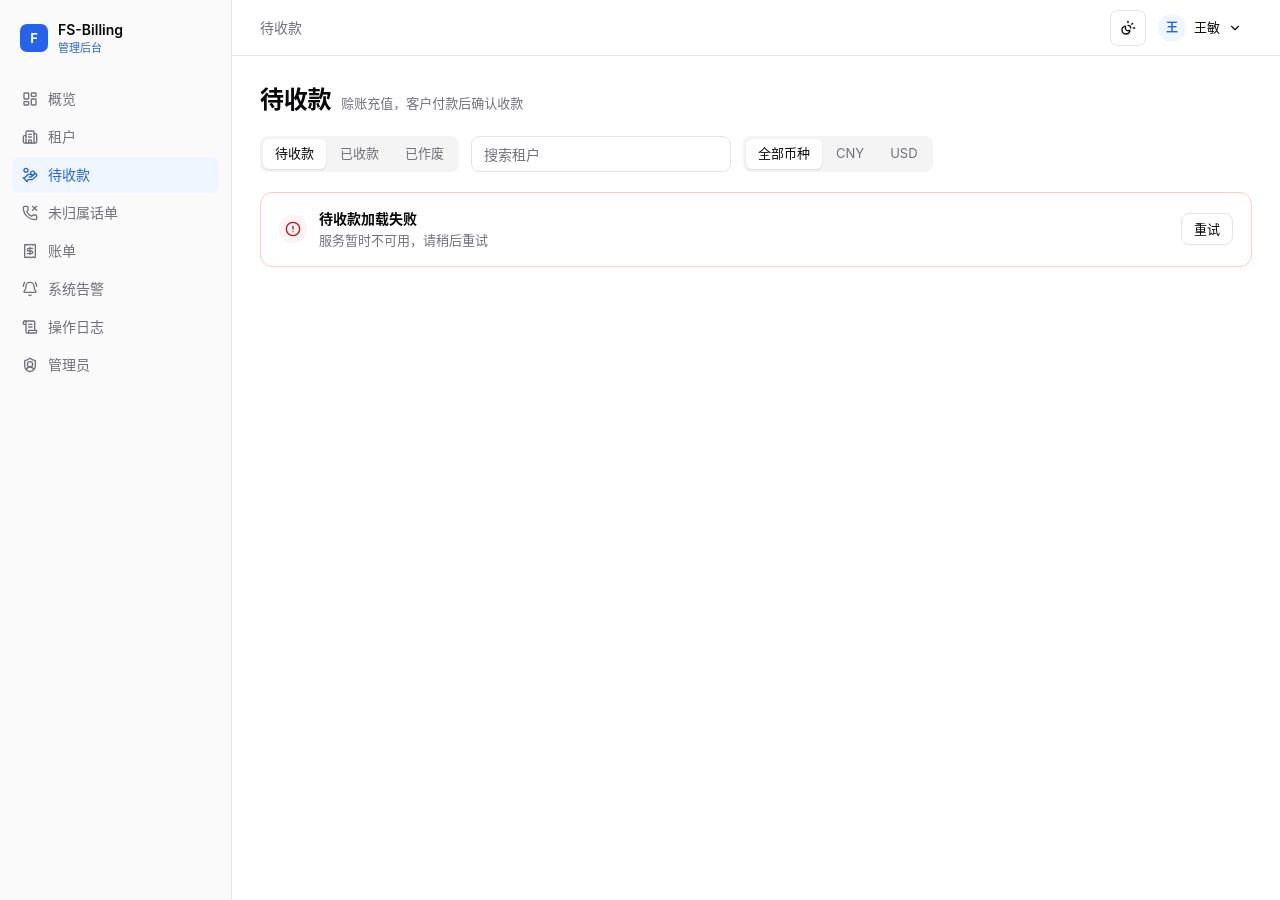
receivables list › a 500 INTERNAL_ERROR shows the generic unavailable error with retry
Click the button "重试": x=1207, y=229 [1181, 213, 1233, 245]
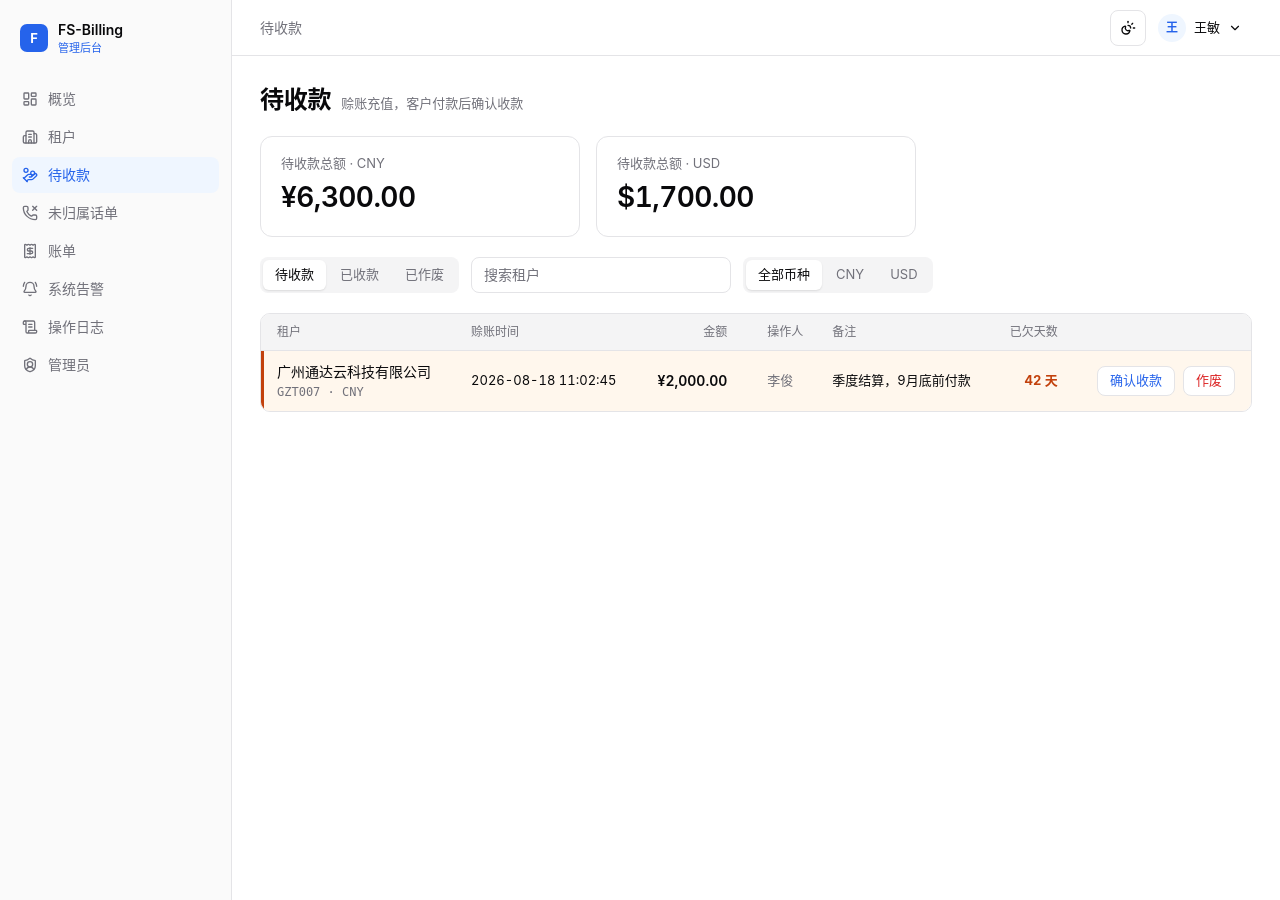
Check: the table is shown, box [261, 314, 1251, 410]
